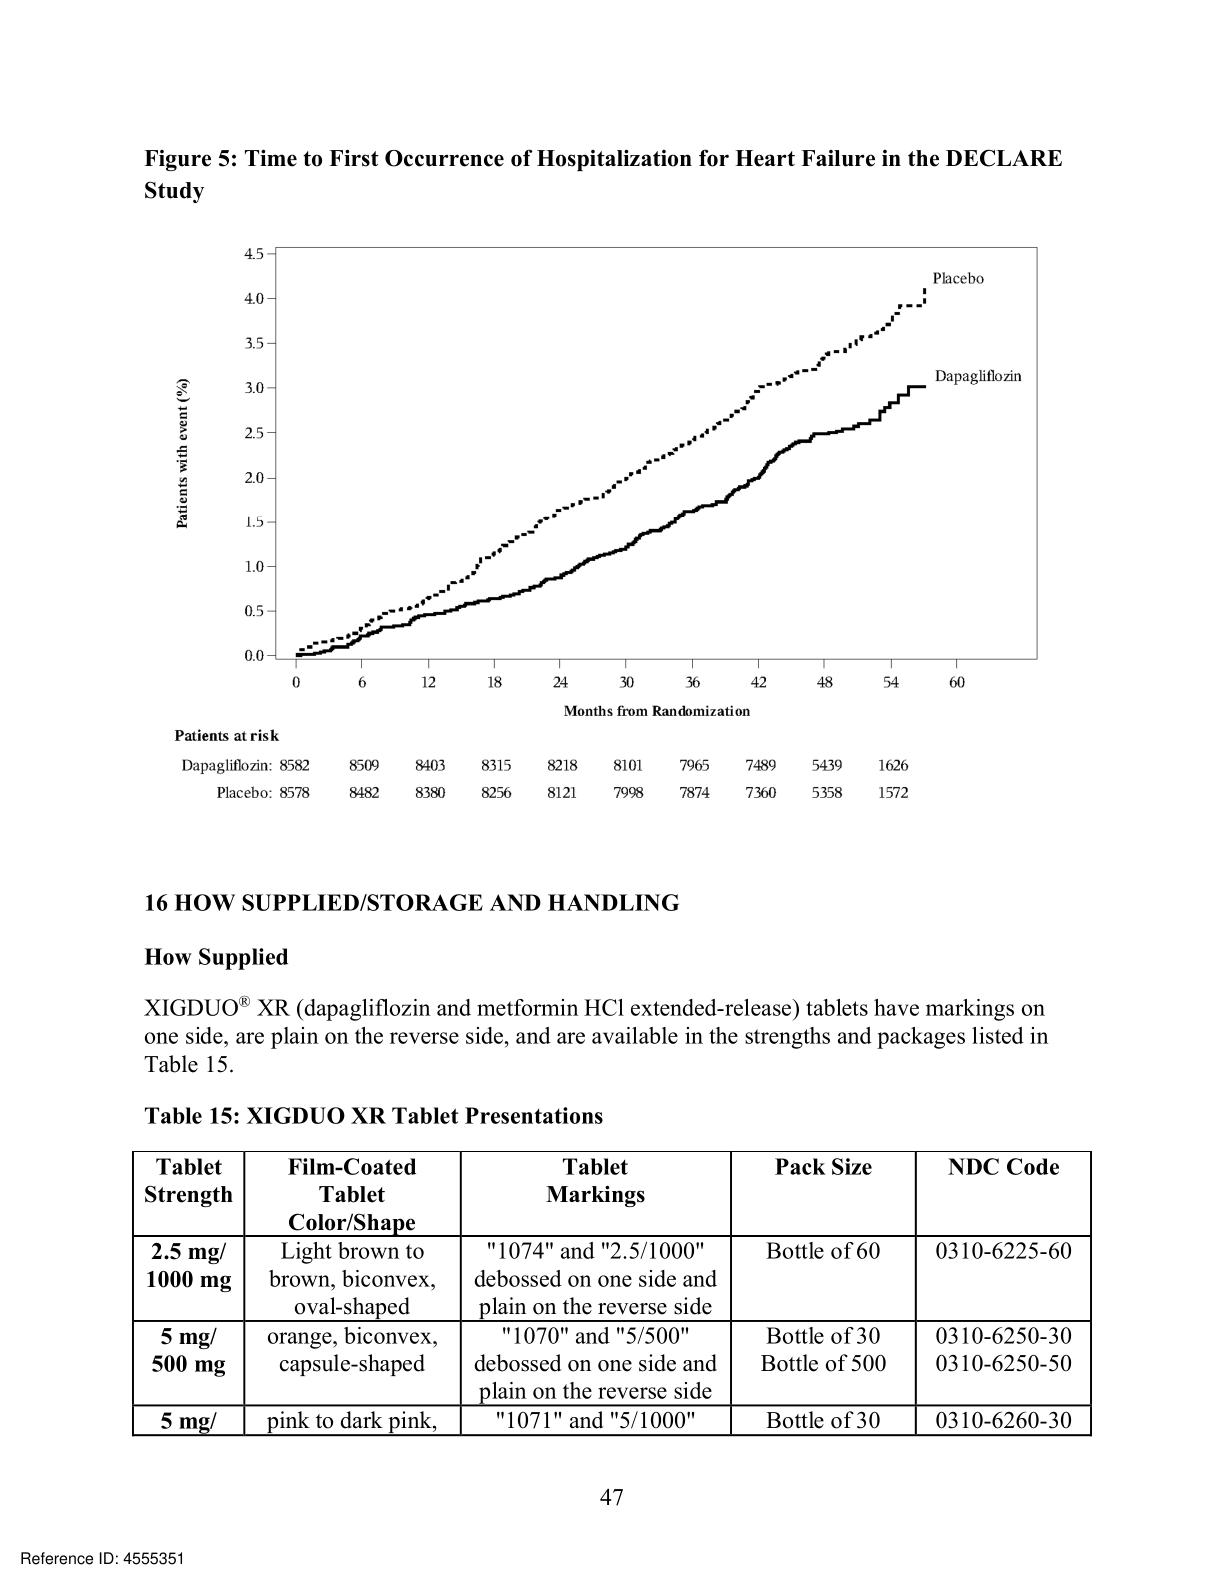full_lined: (131, 1149, 1092, 1437)
nolines: (179, 755, 910, 801)
